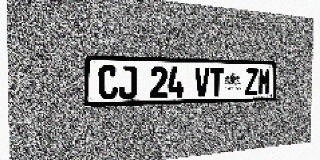2: (151, 66, 167, 98)
4: (168, 67, 184, 98)
C: (98, 65, 118, 100)
J: (118, 66, 137, 99)
M: (258, 68, 270, 95)
T: (210, 67, 224, 97)
V: (195, 67, 209, 97)
Z: (245, 68, 258, 96)
